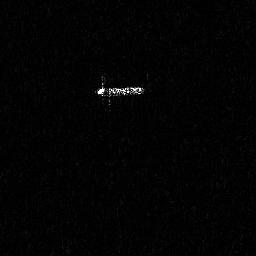ship: (93, 75, 146, 113)
